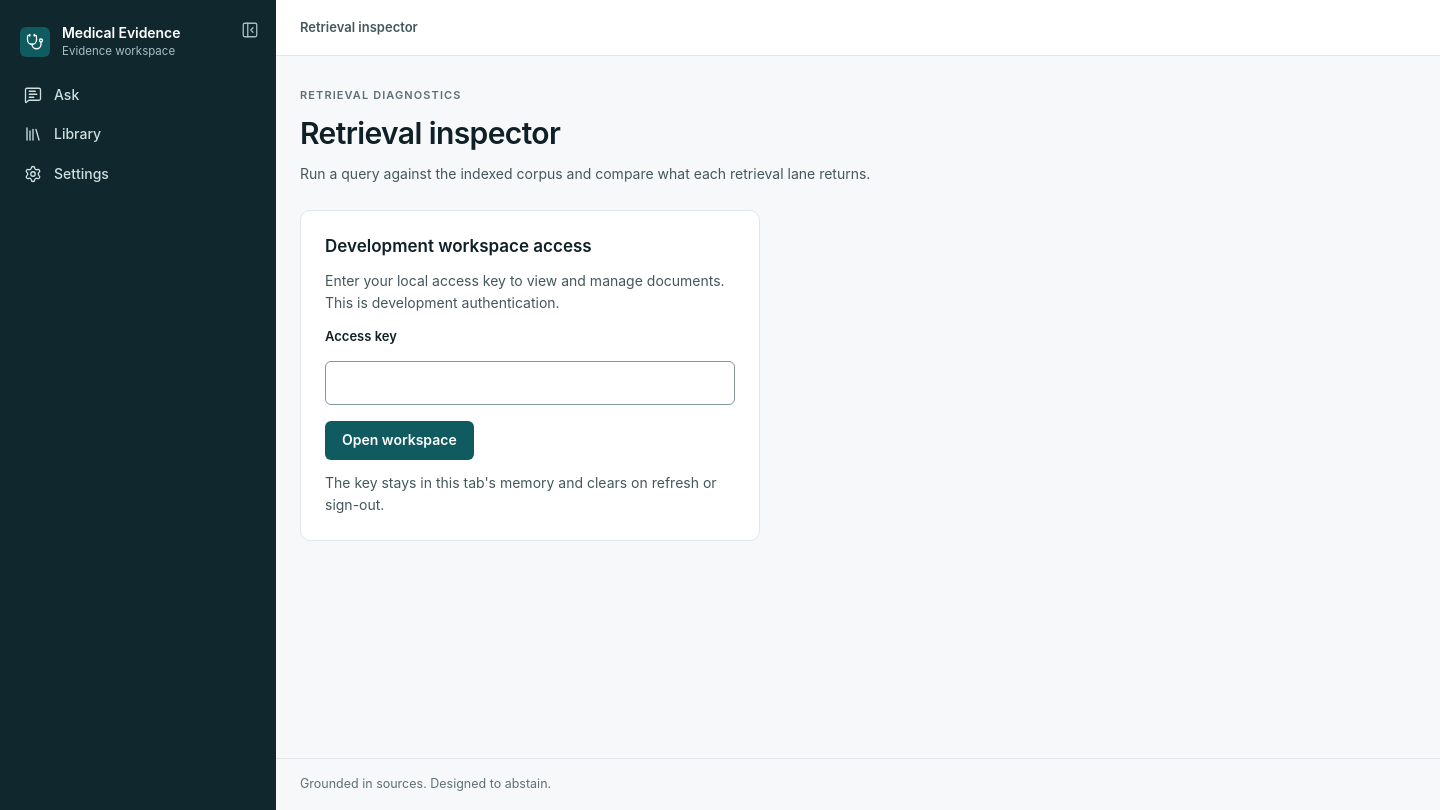
Scenario: reports required lane failure explicitly
Type "test-key" into the password field labelled "Access key" at (530, 383), box [325,361,735,406]
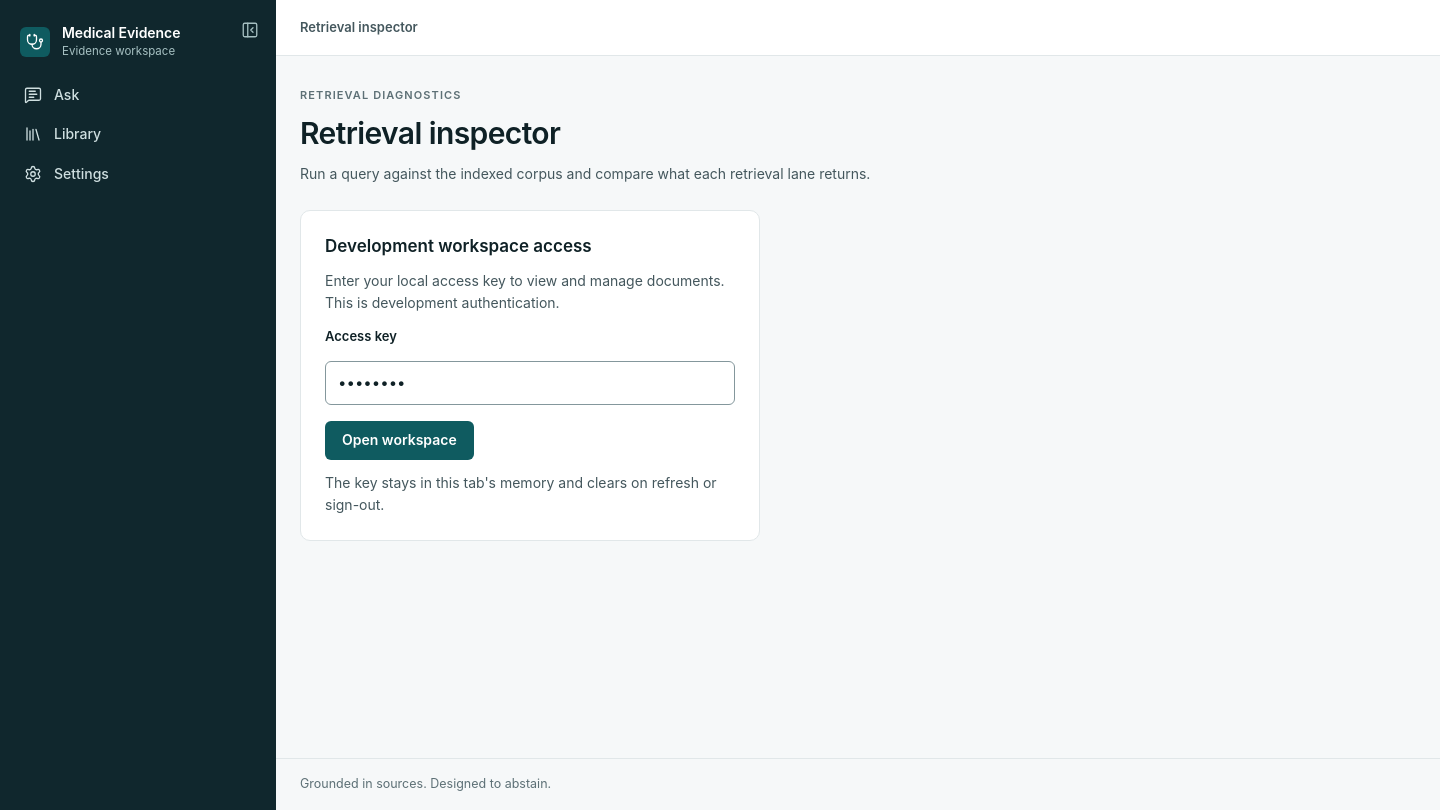
Click the button "Open workspace" at (399, 440), box [325,421,474,460]
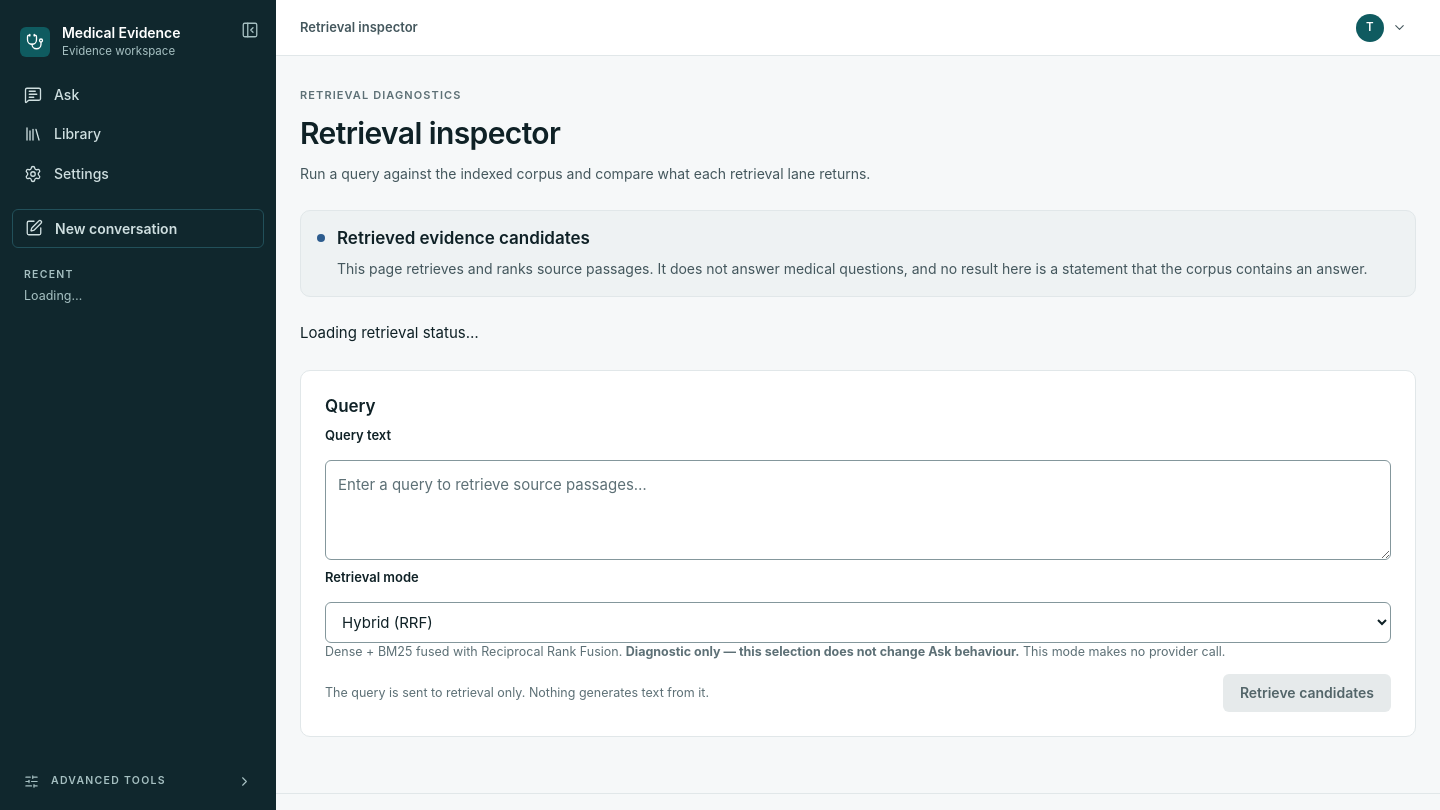
Check: the text box labelled "Query text" is shown
Type "HLA-B27" into the text box labelled "Query text" at (858, 510), box [325,460,1391,560]
(page scrolled)
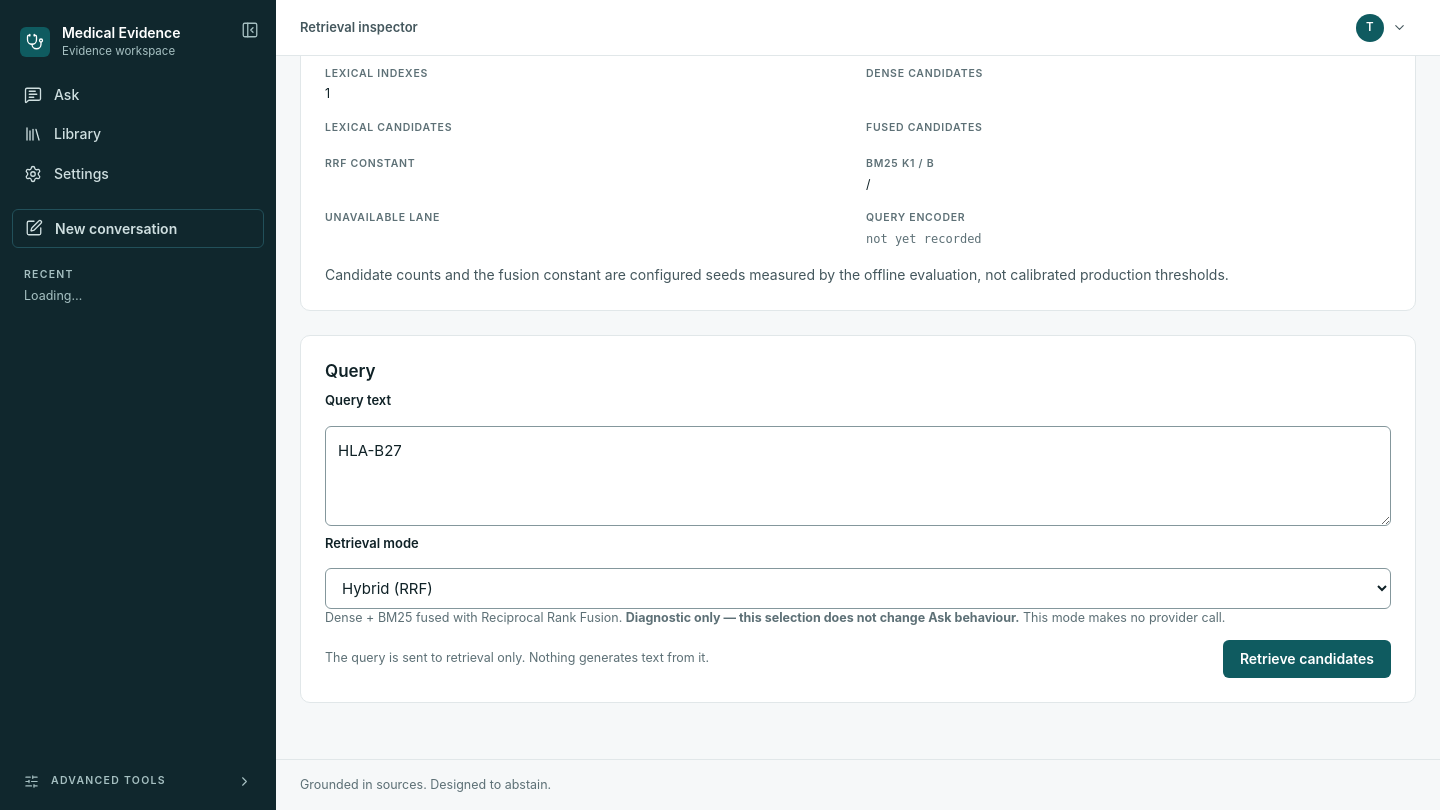
Click the button "Retrieve candidates" at (1307, 659), box [1223,640,1391,678]
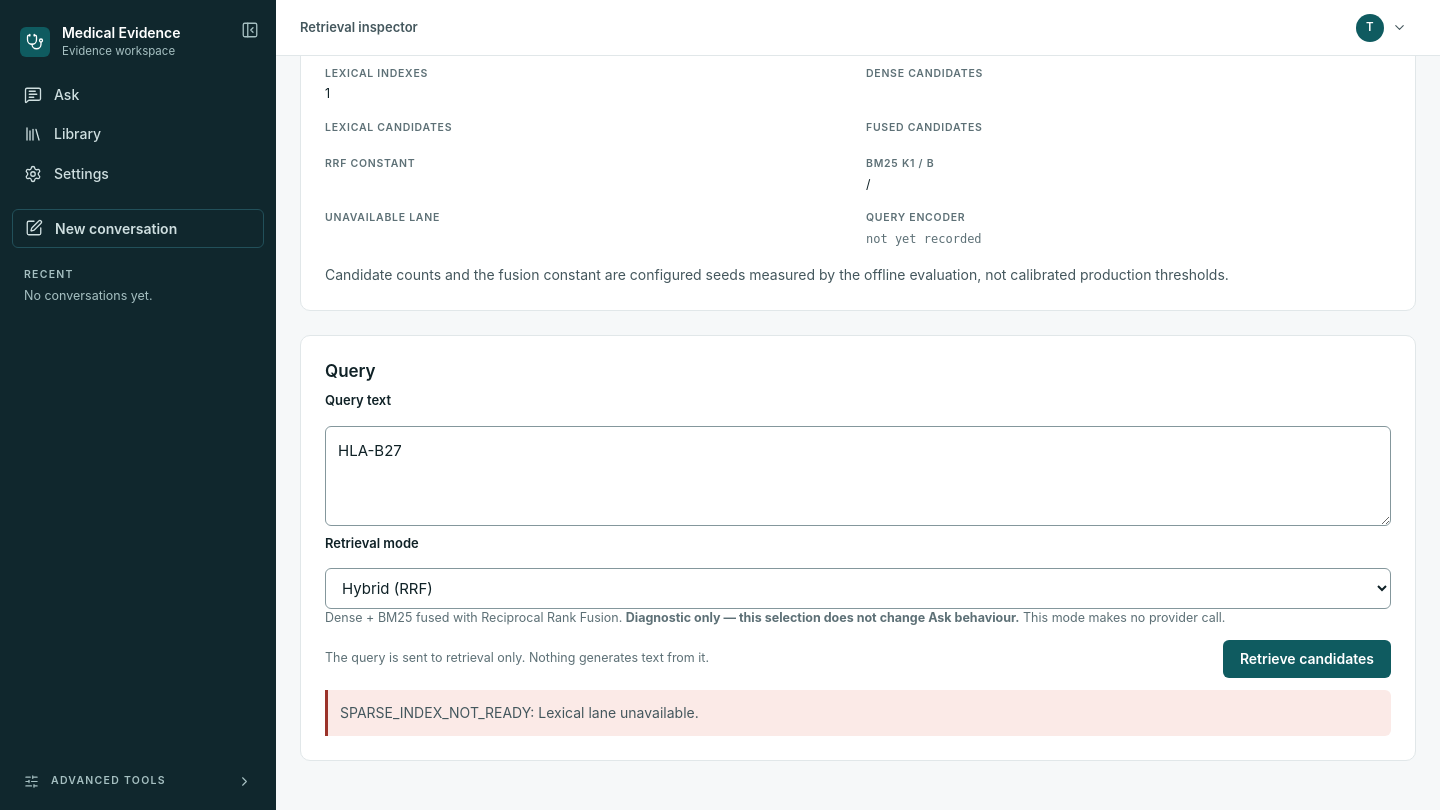
Check: the message shows "SPARSE_INDEX_NOT_READY", box [340,704,530,721]
